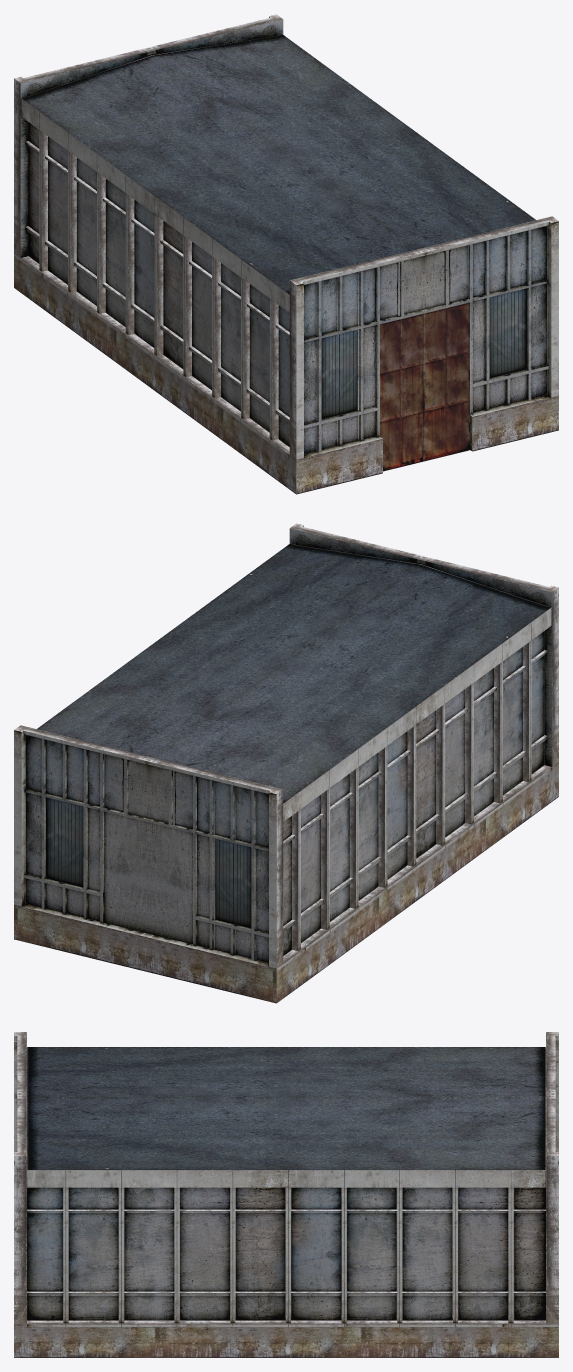
3 views of the same model, one above another, from view 1: azimuth 30°, elevation 25°; view 2: azimuth 150°, elevation 25°; view 3: azimuth 270°, elevation 25° (orthographic). The views are drawn at different scales.
Visible parts, largest first — view 1: b4; view 2: b4; view 3: b4.
Part boxes in pixels (box(x1,y1,x2,y2)): b4: box(14, 14, 558, 494); b4: box(14, 523, 558, 1003); b4: box(14, 1032, 558, 1357).
Bounding box in the file's own units: 9.54 × 7.31 × 17.77.
Materials: 1 (1 with a texture image).
